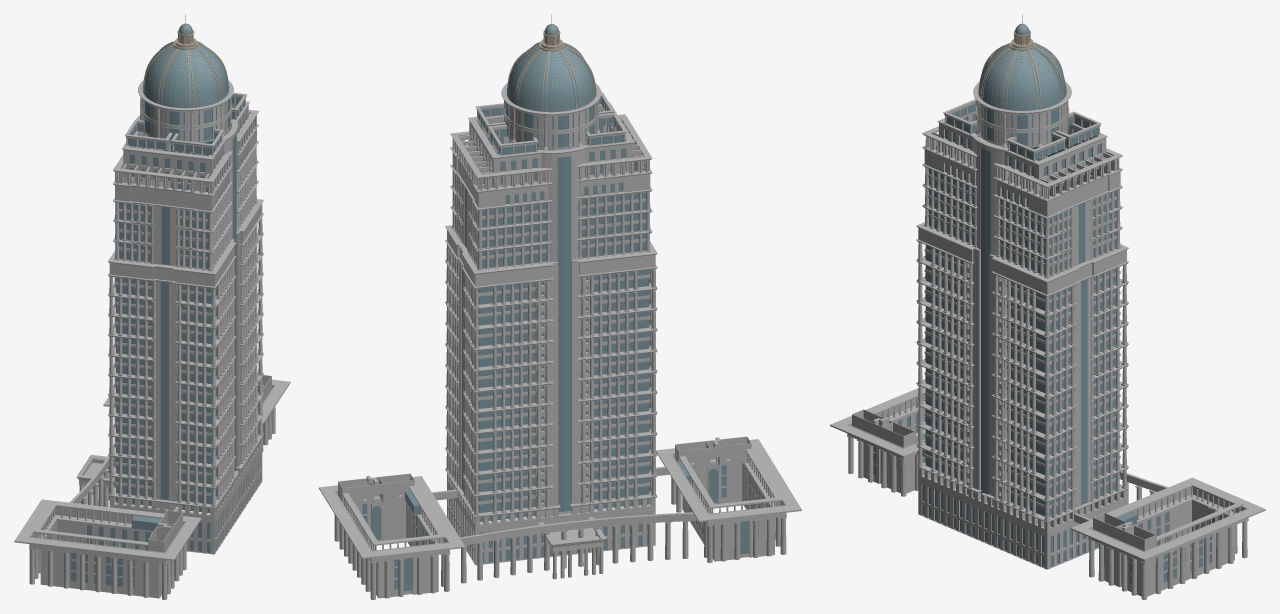
Rendered from lujiazui-15.glb.
3 views of the same model, side by side, from view 1: azimuth 30°, elevation 25°; view 2: azimuth 150°, elevation 25°; view 3: azimuth 270°, elevation 25° (orthographic). The views are drawn at different scales.
Visible parts, largest first — view 1: source_2931_Mat3d66-1303573-2035-4469_part0, source_2930_Mat3d66-1303573-2120-8235_part0, source_2931_Mat3d66-1303573-2035-4469_part1, source_2929_Mat3d66-1303573-2036-5807_part0; view 2: source_2931_Mat3d66-1303573-2035-4469_part0, source_2930_Mat3d66-1303573-2120-8235_part0, source_2931_Mat3d66-1303573-2035-4469_part1, source_2929_Mat3d66-1303573-2036-5807_part0; view 3: source_2931_Mat3d66-1303573-2035-4469_part0, source_2930_Mat3d66-1303573-2120-8235_part0, source_2931_Mat3d66-1303573-2035-4469_part1, source_2929_Mat3d66-1303573-2036-5807_part0.
Part boxes in pixels (<box>): source_2931_Mat3d66-1303573-2035-4469_part0: <box>108,80,264,510</box>; source_2930_Mat3d66-1303573-2120-8235_part0: <box>46,24,248,588</box>; source_2931_Mat3d66-1303573-2035-4469_part1: <box>14,97,290,599</box>; source_2929_Mat3d66-1303573-2036-5807_part0: <box>142,14,228,107</box>; source_2931_Mat3d66-1303573-2035-4469_part0: <box>445,83,657,517</box>; source_2930_Mat3d66-1303573-2120-8235_part0: <box>362,24,765,591</box>; source_2931_Mat3d66-1303573-2035-4469_part1: <box>319,101,801,599</box>; source_2929_Mat3d66-1303573-2036-5807_part0: <box>506,14,596,111</box>; source_2931_Mat3d66-1303573-2035-4469_part0: <box>916,82,1128,522</box>; source_2930_Mat3d66-1303573-2120-8235_part0: <box>873,24,1221,584</box>; source_2931_Mat3d66-1303573-2035-4469_part1: <box>830,101,1265,599</box>; source_2929_Mat3d66-1303573-2036-5807_part0: <box>978,14,1066,110</box>.
Bounding box in the file's own units: 144 × 186 × 143.
